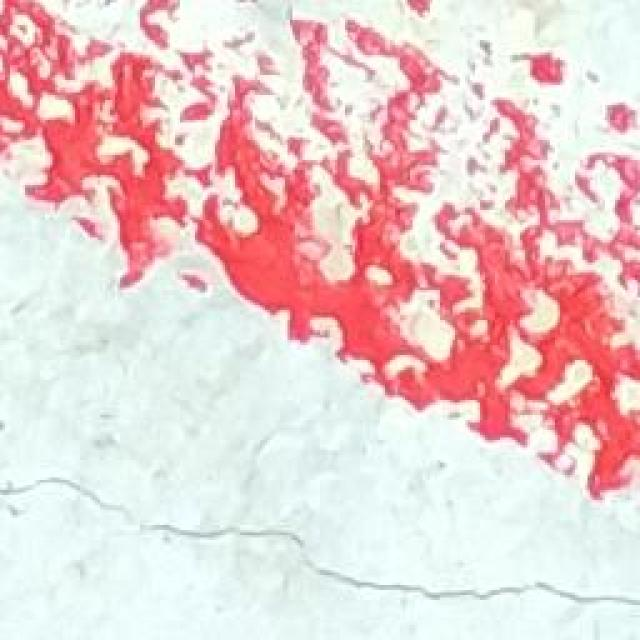Rippled: (0, 0, 640, 470)
Transverse: (1, 472, 640, 620)
